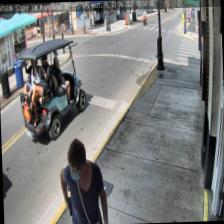person: (57, 136, 108, 224)
